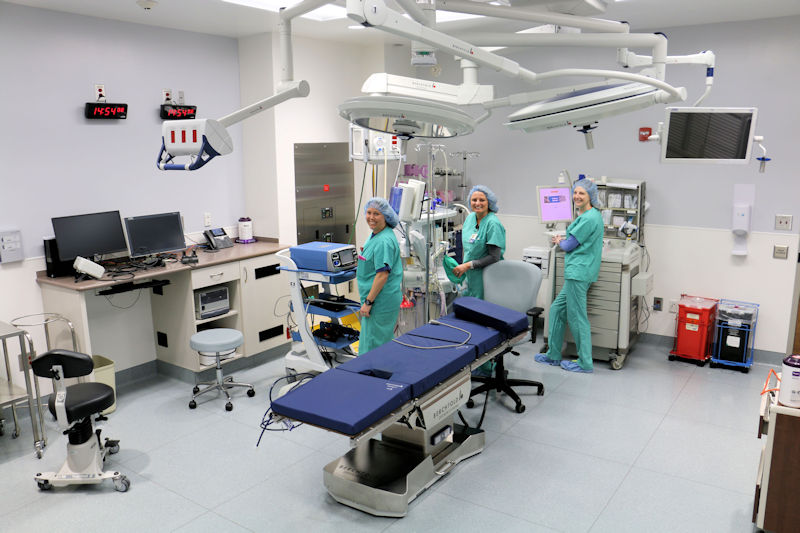bedside_monitor: (661, 107, 759, 165), (50, 210, 129, 261), (124, 211, 187, 257)
chair: (24, 343, 140, 498), (182, 320, 256, 416)
dispenser: (728, 197, 751, 258)
handle: (243, 267, 251, 286), (210, 272, 226, 279)
iv_pole: (412, 139, 447, 322)
light_switch: (773, 213, 795, 238)
medical_drawer: (540, 236, 649, 363)
operating_bed: (277, 297, 530, 517)
staff: (543, 177, 605, 370), (352, 193, 401, 356), (443, 187, 507, 296)
surgical_light: (494, 76, 674, 155), (333, 93, 476, 149)
table: (49, 230, 281, 292)
telephone: (196, 223, 237, 253)
utility_cart: (9, 315, 80, 452)
waste_bin: (668, 292, 719, 366), (711, 298, 760, 374), (89, 354, 120, 408)
